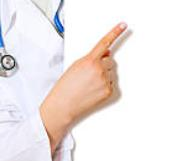up: (52, 20, 130, 118)
